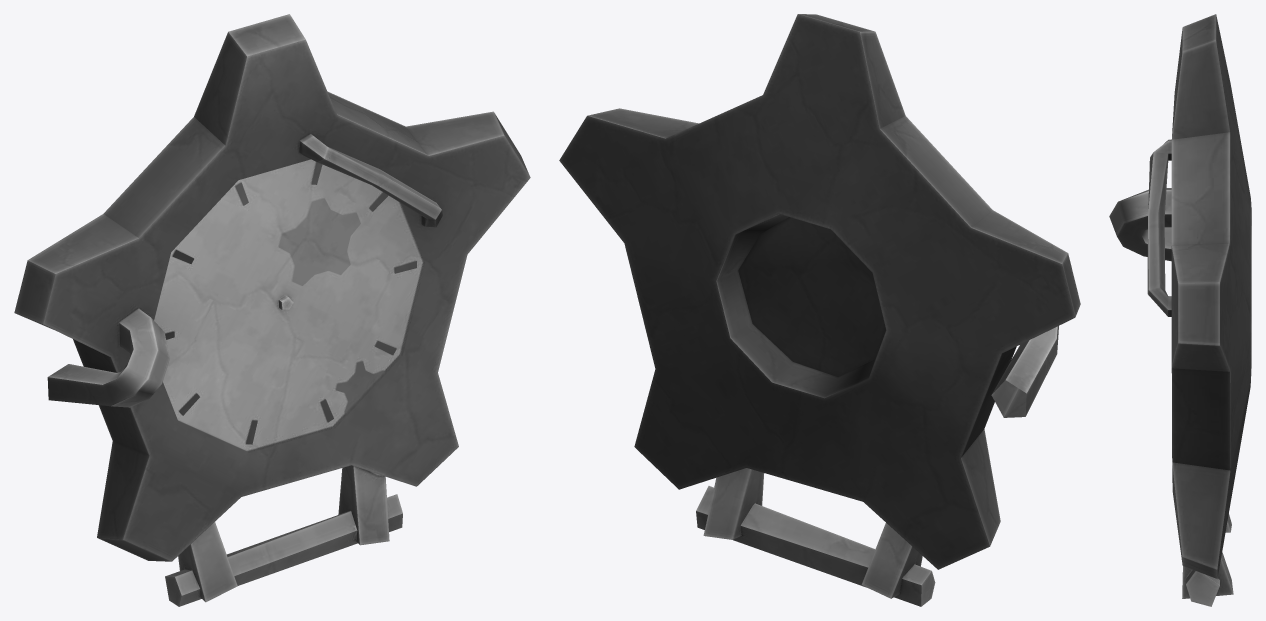
The model's file is obj_clock_alt.gltf.
3 renders of one model, left to right at view 1: azimuth 30°, elevation 25°; view 2: azimuth 150°, elevation 25°; view 3: azimuth 270°, elevation 25°, orthographic. The views are drawn at different scales.
Parts seen in each view (by area): view 1: obj_clock_alt; view 2: obj_clock_alt; view 3: obj_clock_alt.
Boxes of the visible parts, box(x1,y1,x2,y2) form: obj_clock_alt: box(14, 14, 530, 606); obj_clock_alt: box(559, 14, 1080, 606); obj_clock_alt: box(1109, 14, 1251, 606).
Size of what is drawn, in the model's own units: 3.43 by 3.59 by 0.8572.
Materials: 1 (1 with a texture image).
